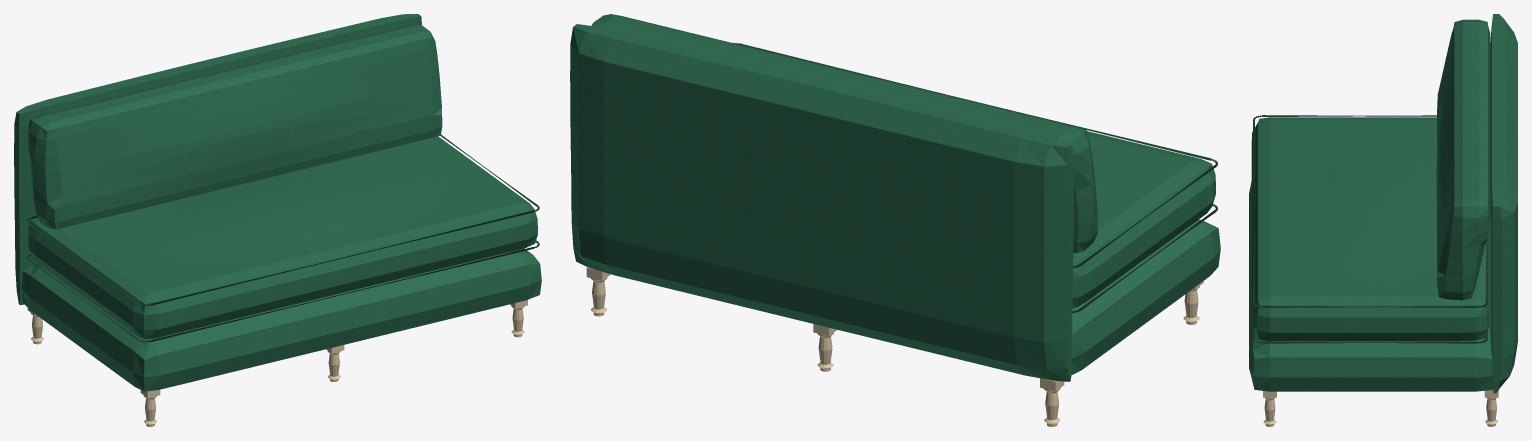
Rendered from FET-LOV-std.glb.
The picture shows the model from 3 angles, left to right: view 1: azimuth 30°, elevation 25°; view 2: azimuth 150°, elevation 25°; view 3: azimuth 270°, elevation 25°; orthographic projection. The views are drawn at different scales.
Visible parts, largest first — view 1: seat:fabric:eyJwcmVzZXQiOiJ2ZWx2ZXQiLCJ3YXJwIjoiZW1lcmFsZCIs, inside-back:fabric:eyJwcmVzZXQiOiJ2ZWx2ZXQiLCJ3YXJwIjoiZW1lc, deck:fabric:eyJwcmVzZXQiOiJ2ZWx2ZXQiLCJ3YXJwIjoiZW1lcmFsZCIs, back-pad:fabric:eyJwcmVzZXQiOiJ2ZWx2ZXQiLCJ3YXJwIjoiZW1lcmFs, seat:piping:pbr; view 2: back-pad:fabric:eyJwcmVzZXQiOiJ2ZWx2ZXQiLCJ3YXJwIjoiZW1lcmFs, seat:fabric:eyJwcmVzZXQiOiJ2ZWx2ZXQiLCJ3YXJwIjoiZW1lcmFsZCIs, inside-back:fabric:eyJwcmVzZXQiOiJ2ZWx2ZXQiLCJ3YXJwIjoiZW1lc, deck:fabric:eyJwcmVzZXQiOiJ2ZWx2ZXQiLCJ3YXJwIjoiZW1lcmFsZCIs, seat:piping:pbr, leg-bl:pbr, leg-br:pbr, leg-cb:pbr; view 3: seat:fabric:eyJwcmVzZXQiOiJ2ZWx2ZXQiLCJ3YXJwIjoiZW1lcmFsZCIs, inside-back:fabric:eyJwcmVzZXQiOiJ2ZWx2ZXQiLCJ3YXJwIjoiZW1lc, deck:fabric:eyJwcmVzZXQiOiJ2ZWx2ZXQiLCJ3YXJwIjoiZW1lcmFsZCIs, back-pad:fabric:eyJwcmVzZXQiOiJ2ZWx2ZXQiLCJ3YXJwIjoiZW1lcmFs, seat:piping:pbr, leg-br:pbr, leg-fr:pbr.
Boxes of the visible parts, bbox=[...] form: seat:fabric:eyJwcmVzZXQiOiJ2ZWx2ZXQiLCJ3YXJwIjoiZW1lcmFsZCIs: bbox=[28, 136, 537, 338]; inside-back:fabric:eyJwcmVzZXQiOiJ2ZWx2ZXQiLCJ3YXJwIjoiZW1lc: bbox=[28, 24, 442, 229]; deck:fabric:eyJwcmVzZXQiOiJ2ZWx2ZXQiLCJ3YXJwIjoiZW1lcmFsZCIs: bbox=[21, 248, 541, 391]; back-pad:fabric:eyJwcmVzZXQiOiJ2ZWx2ZXQiLCJ3YXJwIjoiZW1lcmFs: bbox=[14, 14, 421, 305]; seat:piping:pbr: bbox=[26, 134, 539, 342]; back-pad:fabric:eyJwcmVzZXQiOiJ2ZWx2ZXQiLCJ3YXJwIjoiZW1lcmFs: bbox=[570, 24, 1073, 381]; seat:fabric:eyJwcmVzZXQiOiJ2ZWx2ZXQiLCJ3YXJwIjoiZW1lcmFsZCIs: bbox=[1072, 131, 1215, 308]; inside-back:fabric:eyJwcmVzZXQiOiJ2ZWx2ZXQiLCJ3YXJwIjoiZW1lc: bbox=[591, 14, 1097, 253]; deck:fabric:eyJwcmVzZXQiOiJ2ZWx2ZXQiLCJ3YXJwIjoiZW1lcmFsZCIs: bbox=[1071, 219, 1220, 375]; seat:piping:pbr: bbox=[733, 42, 1217, 313]; leg-bl:pbr: bbox=[1040, 378, 1064, 426]; leg-br:pbr: bbox=[586, 267, 610, 316]; leg-cb:pbr: bbox=[813, 324, 837, 371]; seat:fabric:eyJwcmVzZXQiOiJ2ZWx2ZXQiLCJ3YXJwIjoiZW1lcmFsZCIs: bbox=[1251, 117, 1489, 341]; inside-back:fabric:eyJwcmVzZXQiOiJ2ZWx2ZXQiLCJ3YXJwIjoiZW1lc: bbox=[1436, 19, 1490, 300]; deck:fabric:eyJwcmVzZXQiOiJ2ZWx2ZXQiLCJ3YXJwIjoiZW1lcmFsZCIs: bbox=[1249, 181, 1493, 391]; back-pad:fabric:eyJwcmVzZXQiOiJ2ZWx2ZXQiLCJ3YXJwIjoiZW1lcmFs: bbox=[1490, 14, 1517, 393]; seat:piping:pbr: bbox=[1253, 115, 1487, 343]; leg-br:pbr: bbox=[1484, 389, 1498, 426]; leg-fr:pbr: bbox=[1263, 391, 1276, 426].
Size of the model in its own units: 1.45 by 0.8 by 0.85.
11 materials, 4 textured.
